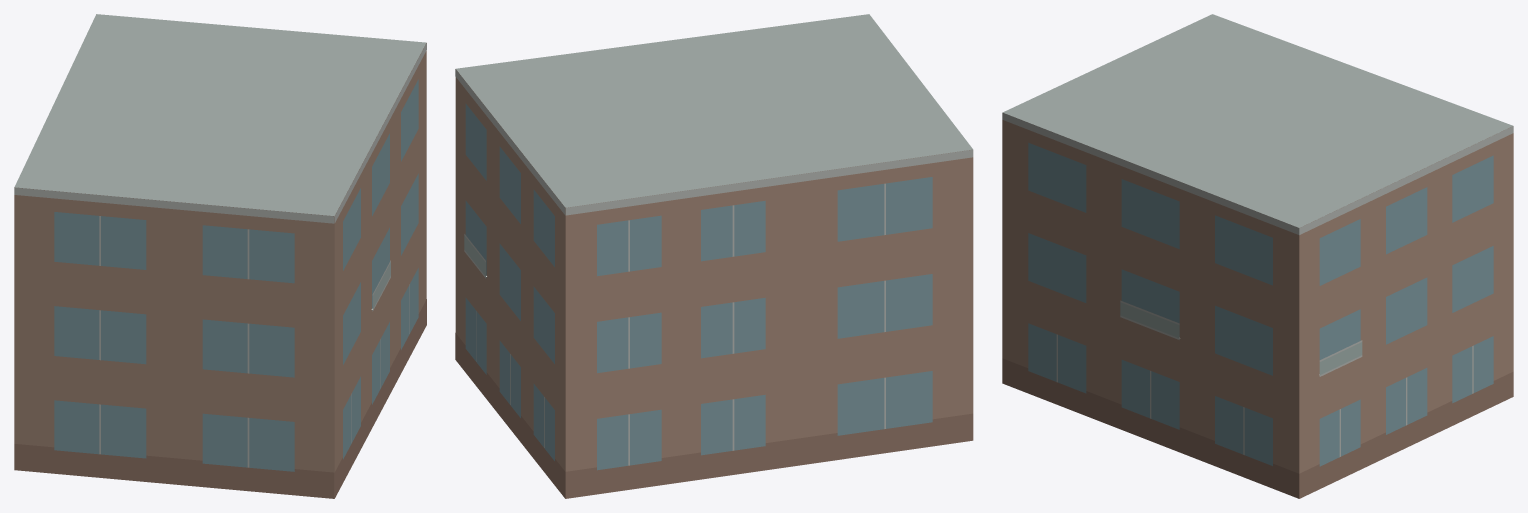
File: survey-upis-32722081.glb
3 renders of one model, left to right at view 1: azimuth 30°, elevation 25°; view 2: azimuth 150°, elevation 25°; view 3: azimuth 270°, elevation 25°, orthographic. The views are drawn at different scales.
Visible parts, largest first — view 1: survey-upis-32722081.tmp; view 2: survey-upis-32722081.tmp; view 3: survey-upis-32722081.tmp.
Part boxes in pixels (x1,y1,x2,y2): survey-upis-32722081.tmp: (14,14,426,498); survey-upis-32722081.tmp: (455,14,973,498); survey-upis-32722081.tmp: (1002,14,1513,498).
Bounding box in the file's own units: 15.51 × 9.15 × 15.65.
